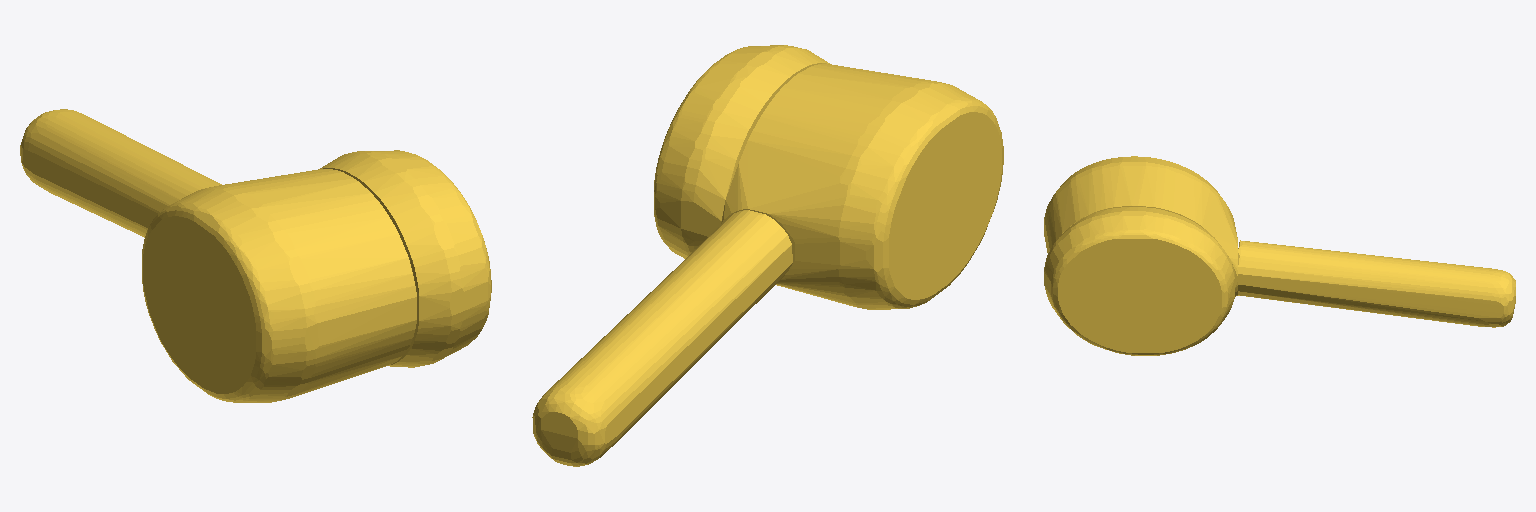
robot.urdf — root:
<robot name="root">
  <link name="link_convex_piece_0">
    <inertial>
      <origin xyz="0 0 0" rpy="0 0 0"/>
      <mass value="5.60E-02"/>
      <inertia ixx="1.93E-04" ixy="1.45E-04" ixz="-1.42E-08" iyy="9.12E-05" iyz="9.75E-06" izz="2.41E-04"/>
    </inertial>
    <visual>
      <origin xyz="0 0 0" rpy="0 0 0"/>
      <geometry>
        <mesh filename="pieces/convex_piece_0.obj" scale="1.0000E+00 1.0000E+00 1.0000E+00"/>
      </geometry>
      <material name="">
        <color rgba="9.80E-01 8.40E-01 3.50E-01 1"/>
      </material>
    </visual>
    <collision>
      <origin xyz="0 0 0" rpy="0 0 0"/>
      <geometry>
        <mesh filename="pieces/convex_piece_0.obj" scale="1.0000E+00 1.0000E+00 1.0000E+00"/>
      </geometry>
    </collision>
  </link>
  <link name="link_convex_piece_1">
    <inertial>
      <origin xyz="0 0 0" rpy="0 0 0"/>
      <mass value="1.14E-01"/>
      <inertia ixx="3.81E-04" ixy="-1.52E-04" ixz="-6.02E-08" iyy="1.20E-04" iyz="1.91E-05" izz="4.14E-04"/>
    </inertial>
    <visual>
      <origin xyz="0 0 0" rpy="0 0 0"/>
      <geometry>
        <mesh filename="pieces/convex_piece_1.obj" scale="1.0000E+00 1.0000E+00 1.0000E+00"/>
      </geometry>
      <material name="">
        <color rgba="9.80E-01 8.40E-01 3.50E-01 1"/>
      </material>
    </visual>
    <collision>
      <origin xyz="0 0 0" rpy="0 0 0"/>
      <geometry>
        <mesh filename="pieces/convex_piece_1.obj" scale="1.0000E+00 1.0000E+00 1.0000E+00"/>
      </geometry>
    </collision>
  </link>
  <joint name="link_convex_piece_1_joint" type="fixed">
    <origin xyz="0 0 0" rpy="0 0 0"/>
    <parent link="link_convex_piece_0"/>
    <child link="link_convex_piece_1"/>
  </joint>
  <link name="link_convex_piece_2">
    <inertial>
      <origin xyz="0 0 0" rpy="0 0 0"/>
      <mass value="3.05E-02"/>
      <inertia ixx="5.12E-05" ixy="4.57E-08" ixz="-3.55E-09" iyy="1.34E-05" iyz="3.95E-05" izz="4.16E-05"/>
    </inertial>
    <visual>
      <origin xyz="0 0 0" rpy="0 0 0"/>
      <geometry>
        <mesh filename="pieces/convex_piece_2.obj" scale="1.0000E+00 1.0000E+00 1.0000E+00"/>
      </geometry>
      <material name="">
        <color rgba="9.80E-01 8.40E-01 3.50E-01 1"/>
      </material>
    </visual>
    <collision>
      <origin xyz="0 0 0" rpy="0 0 0"/>
      <geometry>
        <mesh filename="pieces/convex_piece_2.obj" scale="1.0000E+00 1.0000E+00 1.0000E+00"/>
      </geometry>
    </collision>
  </link>
  <joint name="link_convex_piece_2_joint" type="fixed">
    <origin xyz="0 0 0" rpy="0 0 0"/>
    <parent link="link_convex_piece_1"/>
    <child link="link_convex_piece_2"/>
  </joint>
</robot>

--- Render facts (derived) ---
The picture shows the robot from 3 angles, left to right: view 1: azimuth 30°, elevation 25°; view 2: azimuth 150°, elevation 25°; view 3: azimuth 270°, elevation 25°; orthographic projection.
Model root with 3 links and 2 joints (2 fixed), rooted at link_convex_piece_0, posed all joints at 0.
Visible links, largest first — view 1: link_convex_piece_1, link_convex_piece_0, link_convex_piece_2; view 2: link_convex_piece_1, link_convex_piece_2, link_convex_piece_0; view 3: link_convex_piece_0, link_convex_piece_2, link_convex_piece_1.
Link boxes in pixels (x1,y1,x2,y2): link_convex_piece_1: (142, 169, 416, 402); link_convex_piece_0: (318, 150, 491, 367); link_convex_piece_2: (20, 109, 221, 237); link_convex_piece_1: (721, 64, 1003, 309); link_convex_piece_2: (532, 210, 792, 466); link_convex_piece_0: (654, 45, 829, 258); link_convex_piece_0: (1044, 207, 1234, 355); link_convex_piece_2: (1238, 240, 1515, 327); link_convex_piece_1: (1044, 156, 1237, 296).
Bounding box of the posed robot: 0.1027 × 0.2586 × 0.082 m (x, y, z).
3 mesh visuals loaded from 3 distinct referenced files (3 OBJ).